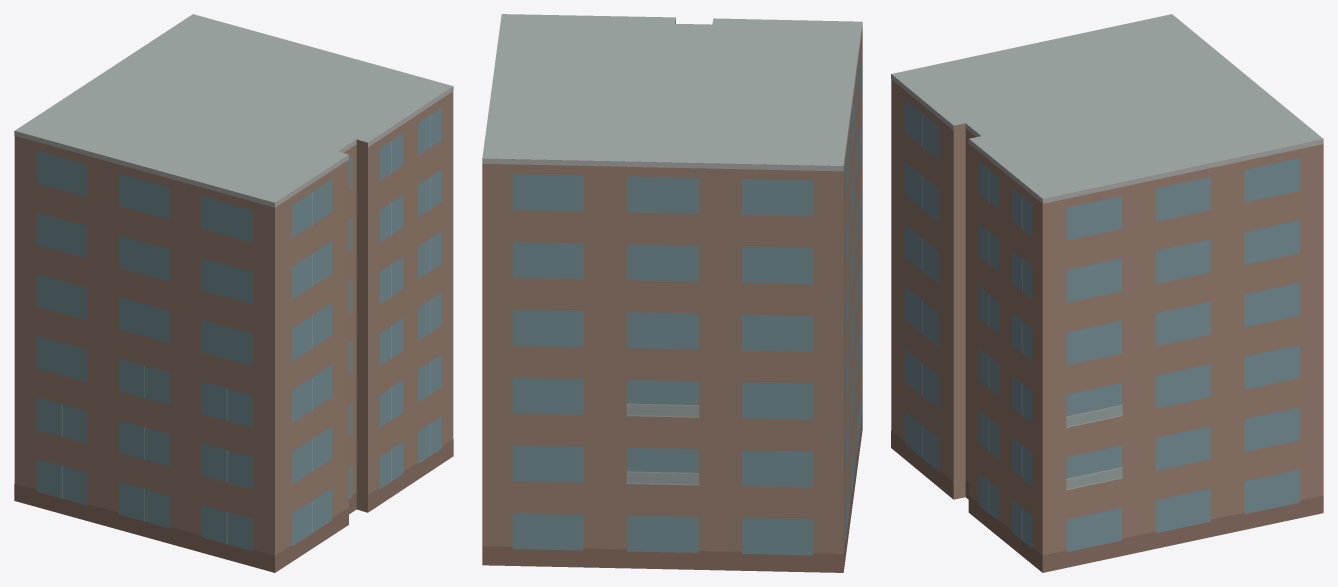
Rendered from survey-upis-32742217.glb.
3 renders of one model, left to right at view 1: azimuth 30°, elevation 25°; view 2: azimuth 150°, elevation 25°; view 3: azimuth 270°, elevation 25°, orthographic. The views are drawn at different scales.
Parts seen in each view (by area): view 1: survey-upis-32742217.tmp; view 2: survey-upis-32742217.tmp; view 3: survey-upis-32742217.tmp.
Part boxes in pixels (x1=…): survey-upis-32742217.tmp: x1=14, y1=14, x2=453, y2=572; survey-upis-32742217.tmp: x1=482, y1=14, x2=862, y2=572; survey-upis-32742217.tmp: x1=891, y1=14, x2=1323, y2=572.
Bounding box in the file's own units: 19.79 × 18.65 × 19.56.
